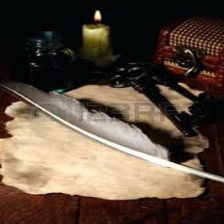fire: (93, 9, 102, 22)
